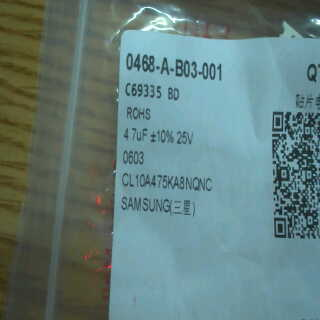4.7uF: (119, 124, 150, 145)
